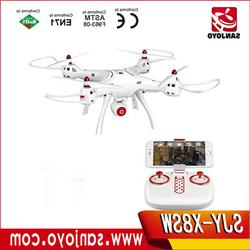drone: (31, 44, 224, 135)
